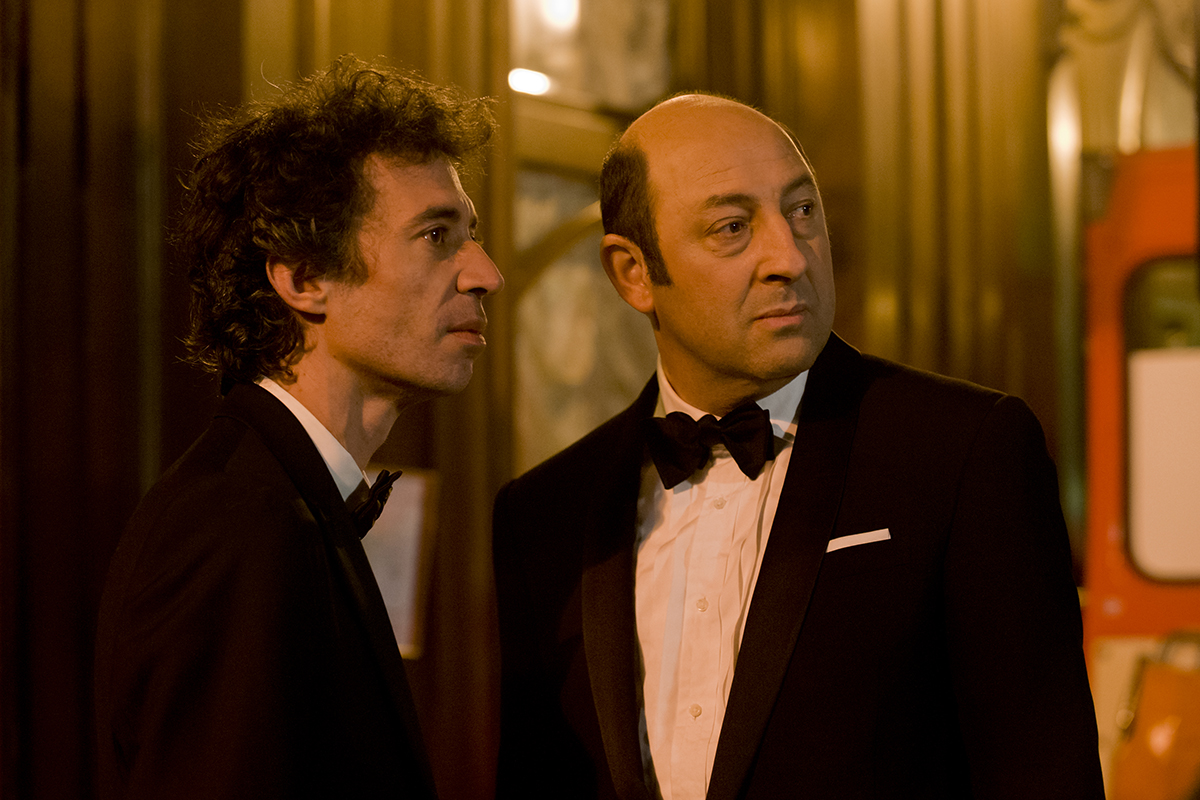without_mask: (352, 166, 504, 393), (686, 180, 829, 363)
